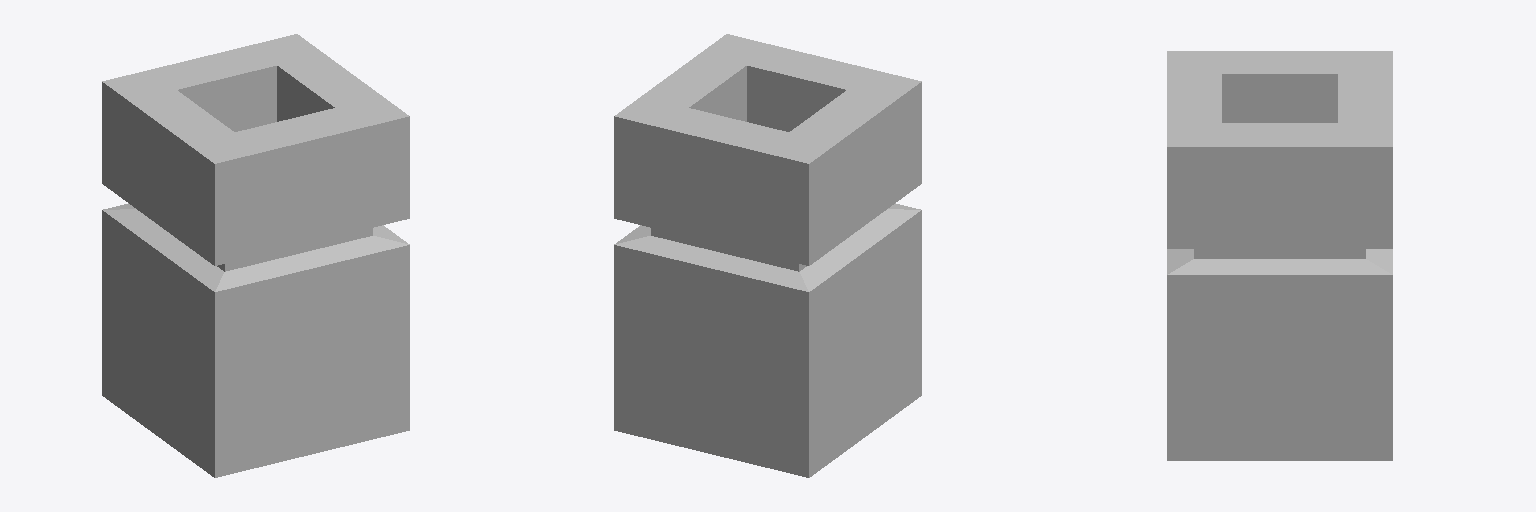
File: Light_Square_Short_Hollow.obj
3 views of the same model, side by side, from view 1: azimuth 30°, elevation 25°; view 2: azimuth 150°, elevation 25°; view 3: azimuth 270°, elevation 25° (orthographic).
Parts seen in each view (by area): view 1: Light_Square_Short_Hollow; view 2: Light_Square_Short_Hollow; view 3: Light_Square_Short_Hollow.
Boxes of the visible parts, <box> form: Light_Square_Short_Hollow: <box>102,34,409,477</box>; Light_Square_Short_Hollow: <box>614,34,921,477</box>; Light_Square_Short_Hollow: <box>1167,51,1392,460</box>.
Bounding box in the file's own units: 0.65 × 0.9992 × 0.65.